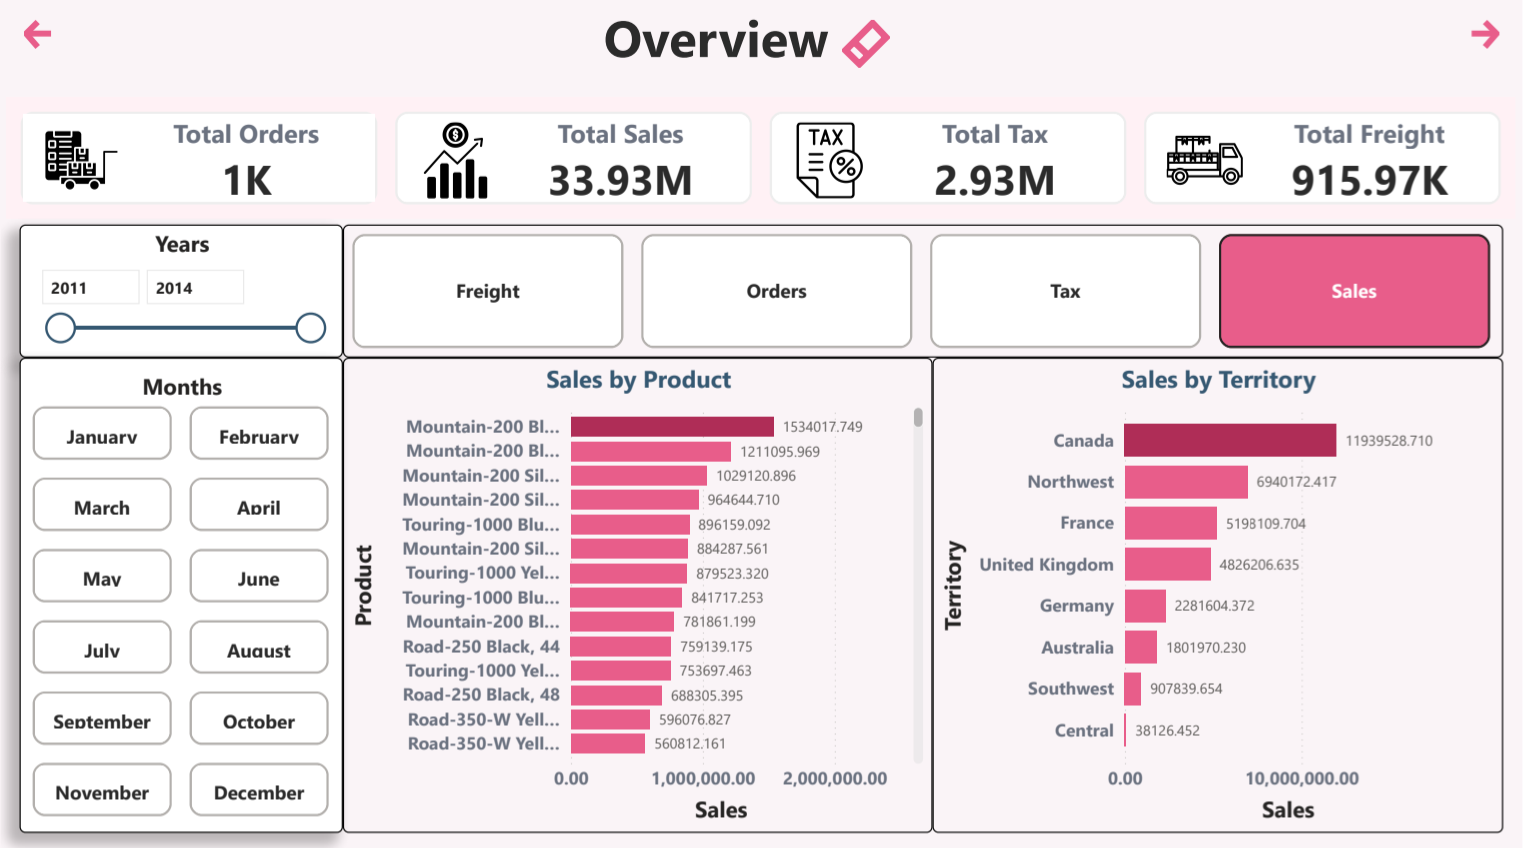

The dashboard page shown, as its layout file describes it:
{"tool":"powerbi","page":{"name":"Overview","canvas":[1280,720],"ordinal":1},"visuals":[{"type":"cardVisual","fields":{"Data":["_Measures.Total_orders","_Measures.Totals_sales","_Measures.Total_tax","_Measures.Total_freight"]},"box":[0,80,1280,112],"z":0},{"type":"textbox","box":[466.7,0,270.3,75.3],"z":1000},{"type":"advancedSlicerVisual","fields":{"Values":["Parameter.Parameter"]},"box":[288,192,976,112],"z":2000},{"type":"clusteredBarChart","fields":{"Y":["_Measures.Total_freight","_Measures.Total_orders","_Measures.Total_tax","_Measures.Totals_sales"],"Category":["Dim_Product.Product"]},"box":[288,304,496,400],"z":3000},{"type":"clusteredBarChart","fields":{"Y":["_Measures.Total_freight","_Measures.Total_orders","_Measures.Total_tax","_Measures.Totals_sales"],"Category":["Dim_Territory.Territory"]},"box":[784,304,480,400],"z":4000},{"type":"slicer","title":"Years","fields":{"Values":["calender_table.Year"]},"box":[16,192,272,112],"z":5000},{"type":"advancedSlicerVisual","title":"Months","fields":{"Values":["calender_table.Month Name"]},"box":[0,320,272,400],"z":6000},{"type":"actionButton","box":[704,16,64,48],"z":7000},{"type":"actionButton","box":[1232,16,32,32],"z":8000},{"type":"actionButton","box":[16,16,112,32],"z":9000}]}

Visuals, with their boxes in screenshot pixels (x1, y1, x2, y2), scaled from the page's 1280x720 canvas onto the 1528x848 screenshot:
cardVisual - _Measures.Total_orders x _Measures.Totals_sales: 0/94/1527/226
textbox: 557/0/880/89
advancedSlicerVisual - Parameter.Parameter: 344/226/1509/358
clusteredBarChart - _Measures.Total_freight x _Measures.Total_orders: 344/358/936/829
clusteredBarChart - _Measures.Total_freight x _Measures.Total_orders: 936/358/1509/829
"Years" slicer: 19/226/344/358
"Months" advancedSlicerVisual: 0/377/325/847
actionButton: 840/19/917/75
actionButton: 1471/19/1509/57
actionButton: 19/19/153/57
